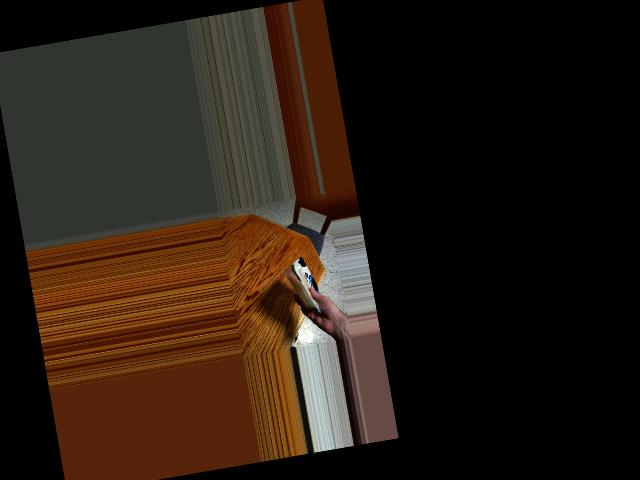cheese: (280, 255, 331, 312)
